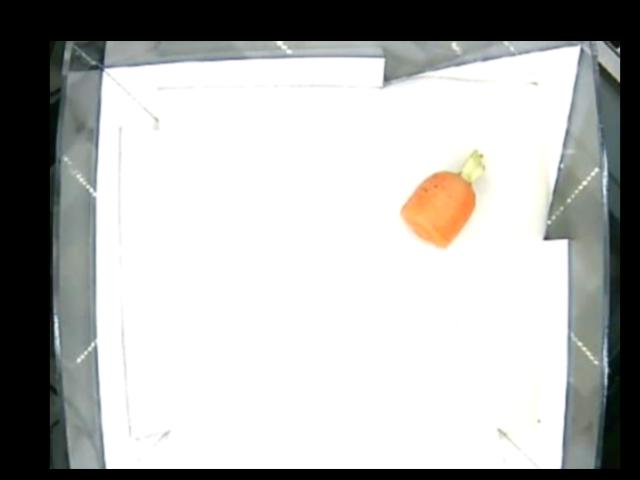Carrot: (401, 146, 484, 248)
